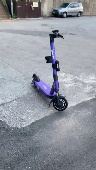beam: (31, 29, 72, 112)
